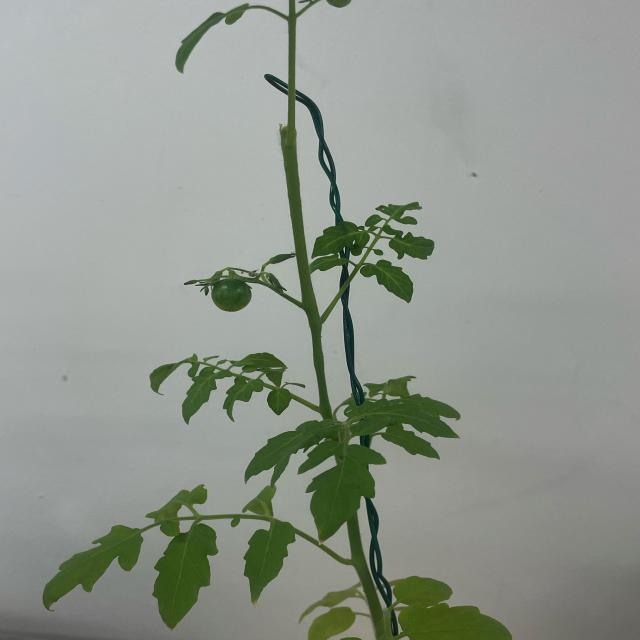level 1: (201, 274, 260, 314)
